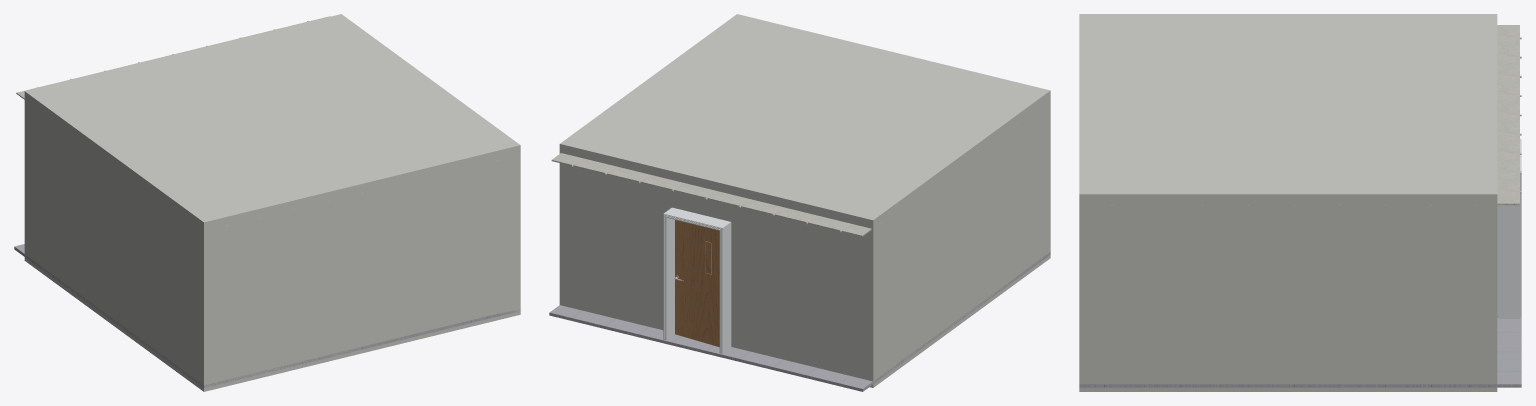
File: infinigen-pediatric-urgent-care-bay.glb
The picture shows the model from 3 angles, left to right: view 1: azimuth 30°, elevation 25°; view 2: azimuth 150°, elevation 25°; view 3: azimuth 270°, elevation 25°; orthographic projection. The views are drawn at different scales.
Parts seen in each view (by area): view 1: bedroom_0/0.exterior, openclinxr_floor_field; view 2: bedroom_0/0.exterior, bedroom_0/0.door_leaf, openclinxr_floor_field, bedroom_0/0.door_casing, openclinxr_ceiling_tiles; view 3: bedroom_0/0.exterior, openclinxr_ceiling_tiles, openclinxr_floor_field, bedroom_0/0.door_casing.
Part boxes in pixels (bbox=[...]): bedroom_0/0.exterior: bbox=[24, 14, 520, 391]; openclinxr_floor_field: bbox=[14, 244, 520, 387]; bedroom_0/0.exterior: bbox=[559, 14, 1050, 387]; bedroom_0/0.door_leaf: bbox=[674, 220, 719, 347]; openclinxr_floor_field: bbox=[549, 252, 1050, 391]; bedroom_0/0.door_casing: bbox=[663, 207, 731, 353]; openclinxr_ceiling_tiles: bbox=[551, 153, 871, 236]; bedroom_0/0.exterior: bbox=[1079, 14, 1497, 391]; openclinxr_ceiling_tiles: bbox=[1497, 25, 1519, 205]; openclinxr_floor_field: bbox=[1079, 317, 1521, 387]; bedroom_0/0.door_casing: bbox=[1497, 138, 1521, 318].
Size of the model in its own units: 5.61 by 2.87 by 5.82.
Materials: 17 (10 with a texture image).
